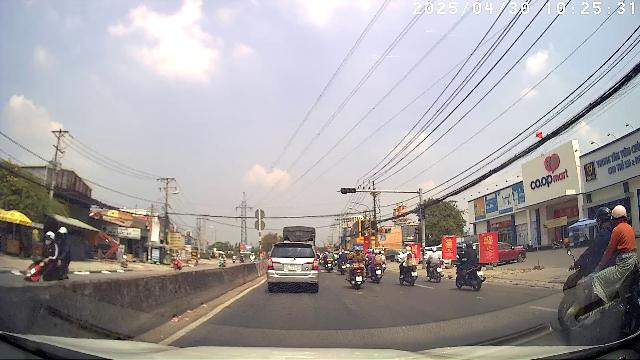423a-duong-nguoi-di-bo-sang-ngang-1: (380, 236, 386, 240)
